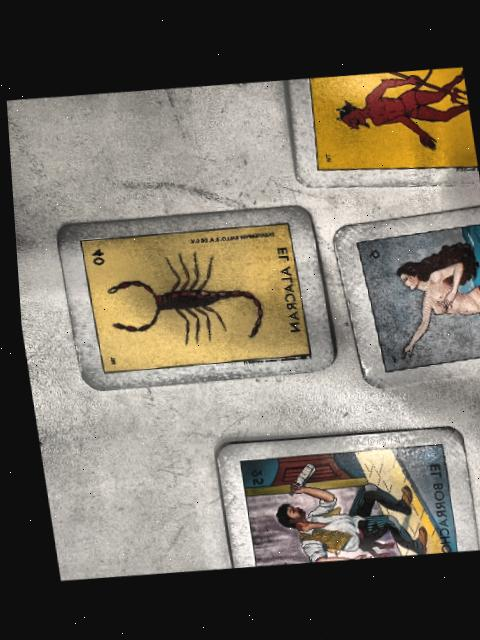El Alacran: (76, 224, 304, 370)
La Sirena: (353, 220, 480, 371)
